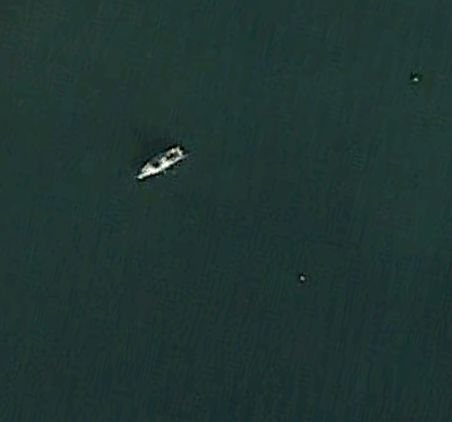boat: (135, 142, 190, 183)
